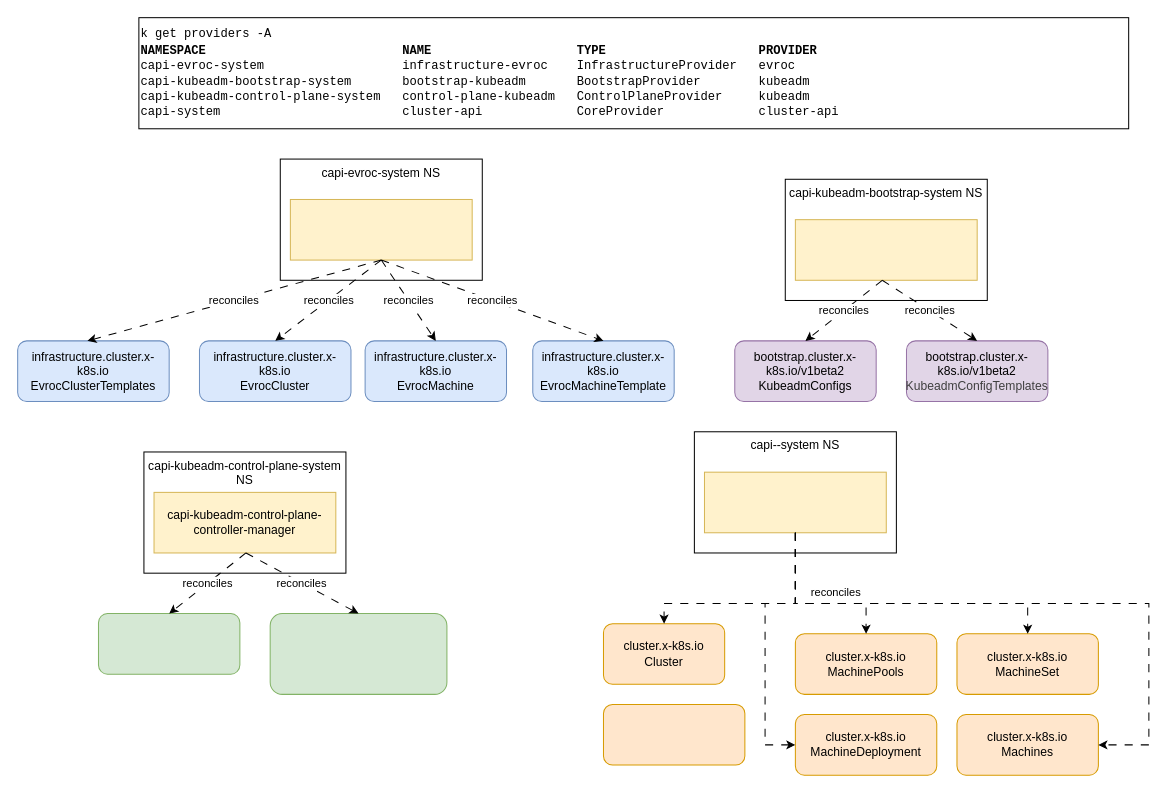
Some shapes in this 1175 by 793 pixel diagram are drawn without their labels. Each missing label, with the centre of its shape:
"also MachineDrainRules MacineHealthChecks" belongs at (673,734).
"capi-controller-manager" belongs at (794,502).
"capi-kubeadm-bootstrap-controller-manager" belongs at (885,249).
"cluster-api-provider-evroc-controller-manager" belongs at (380,229).
"controlplane,cluster.x-k8s.io KubeadmControlPlane" belongs at (168,643).
"controlplane,cluster.x-k8s.io KubeadmControlPlaneTemplates" belongs at (358,653).
